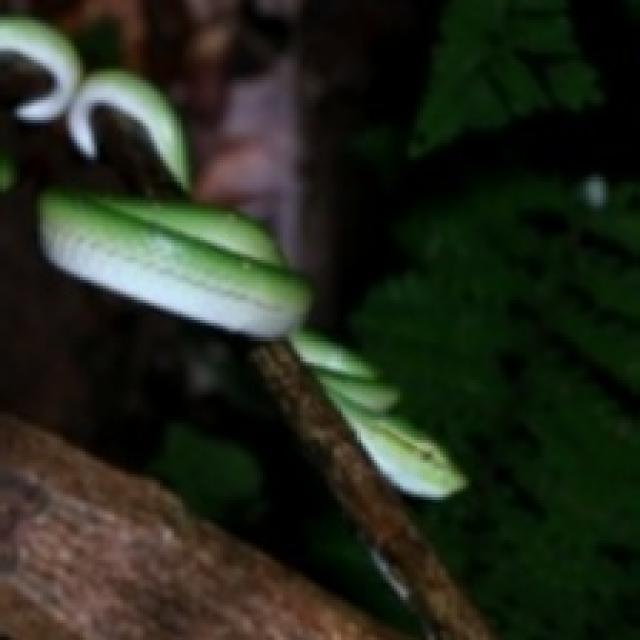north ph temple pitviper: (0, 17, 463, 497)
